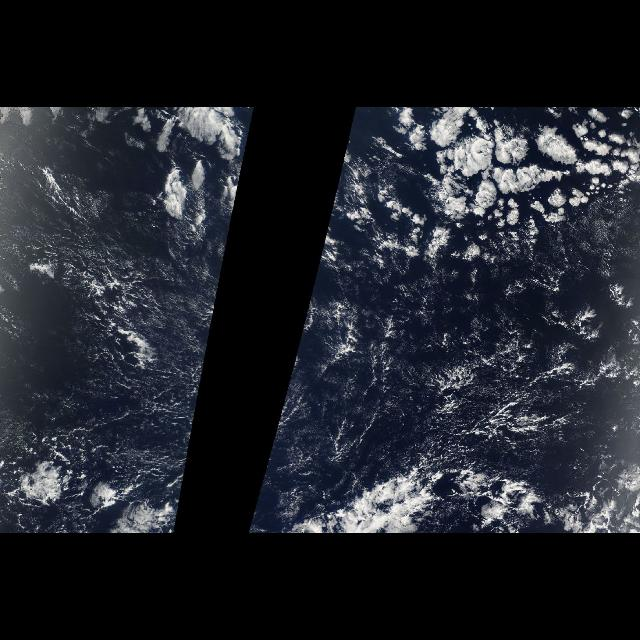Fish: (292, 462, 620, 534)
Flower: (361, 108, 639, 338), (4, 455, 190, 533)
Gravel: (416, 292, 628, 478)
Sugar: (0, 156, 232, 484), (266, 215, 340, 462)
